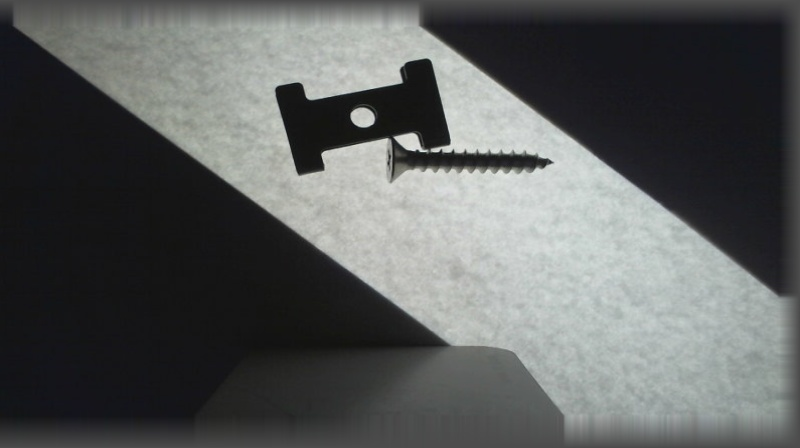O002: (274, 57, 450, 178)
S001: (384, 136, 556, 183)
